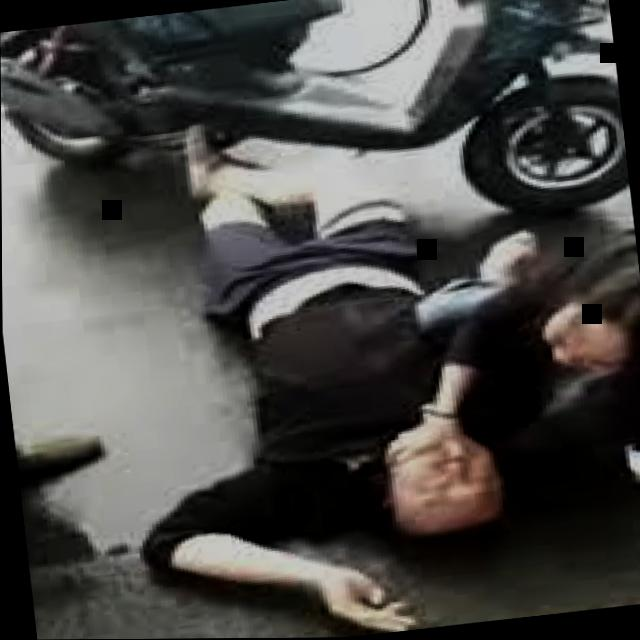Fall-Detected: (84, 66, 514, 640)
